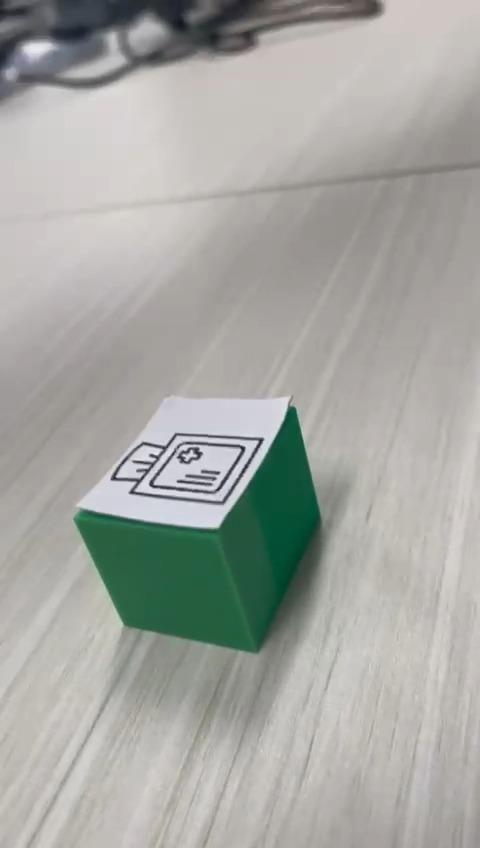Gauze: (72, 393, 322, 653)
